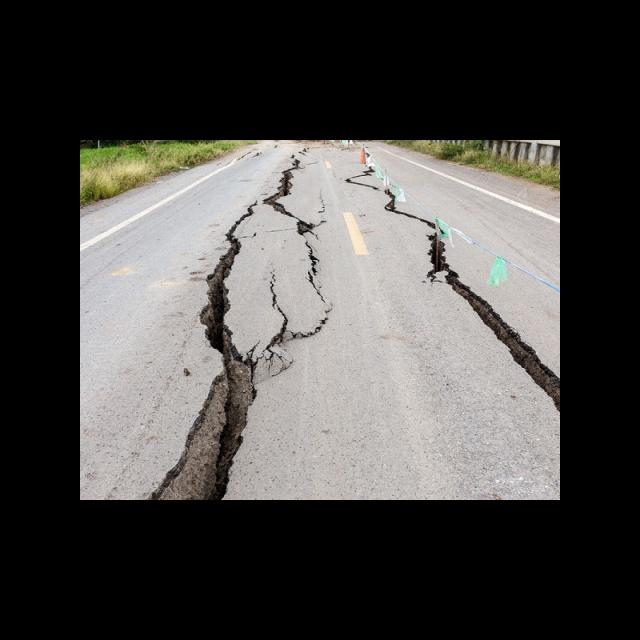retak_memanjang: (151, 153, 328, 500), (353, 168, 560, 403)
